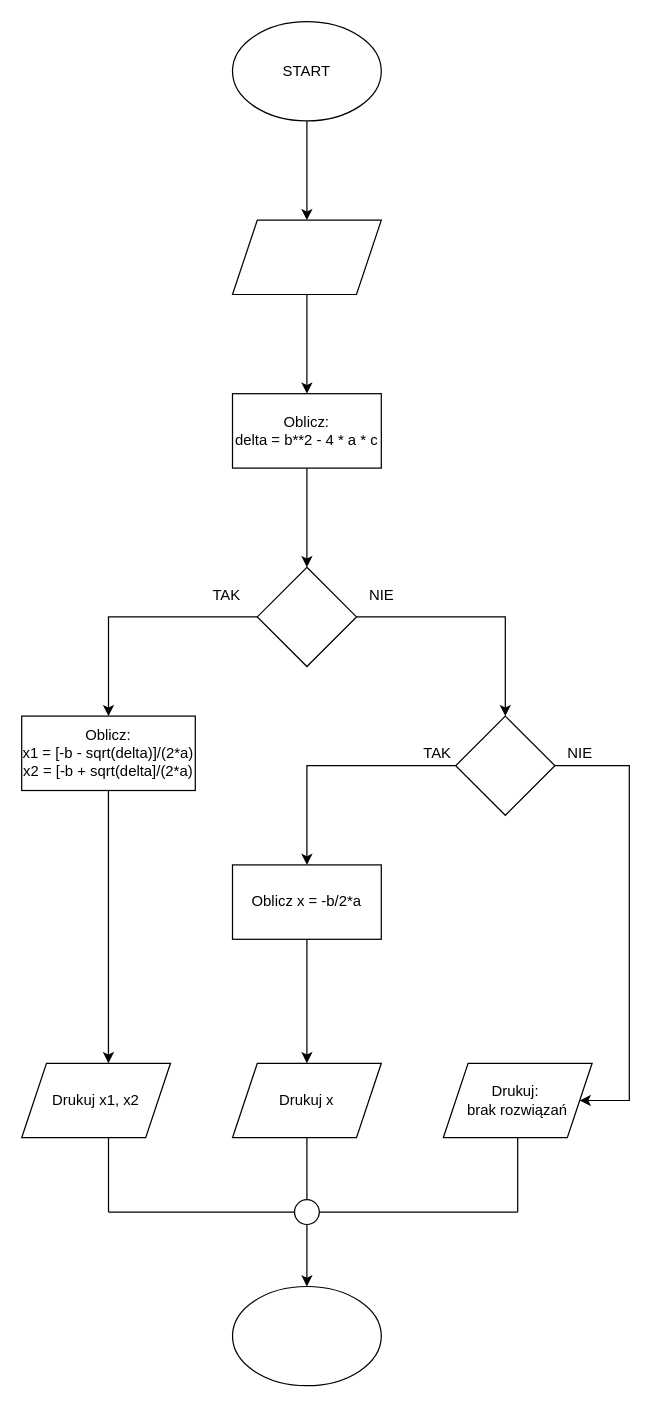
This 661x1407 diagram has some shape labels left out. Each missing label, with the centre of its shape:
Jeśli delta == 0: (x=504, y=765)
Jeśli delta > 0: (x=306, y=616)
KONIEC: (x=306, y=1335)
Wczytaj: a,b,c: (x=306, y=256)
